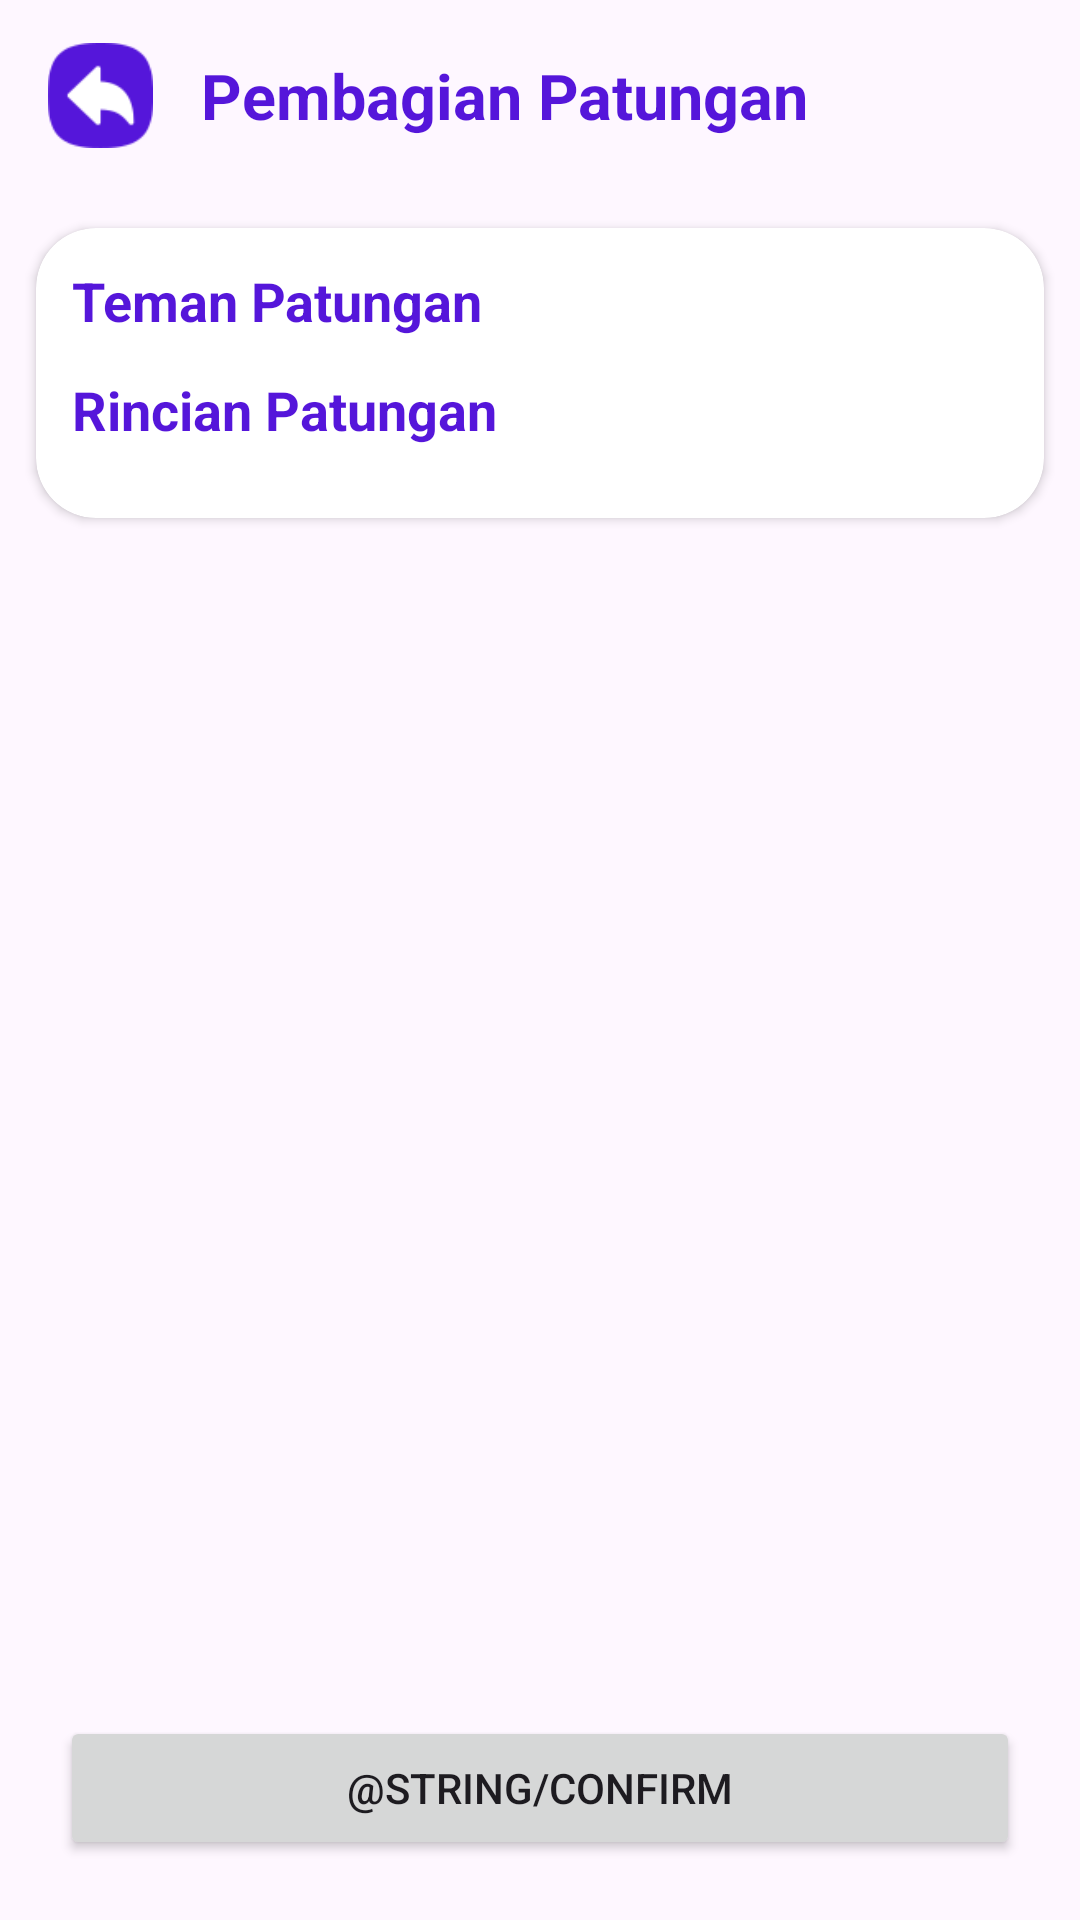

Icon bounding boxes for this 1080px x 1920px phone screenshot, format box(x1, y1, x2, y2):
back: box(48, 43, 153, 148)
